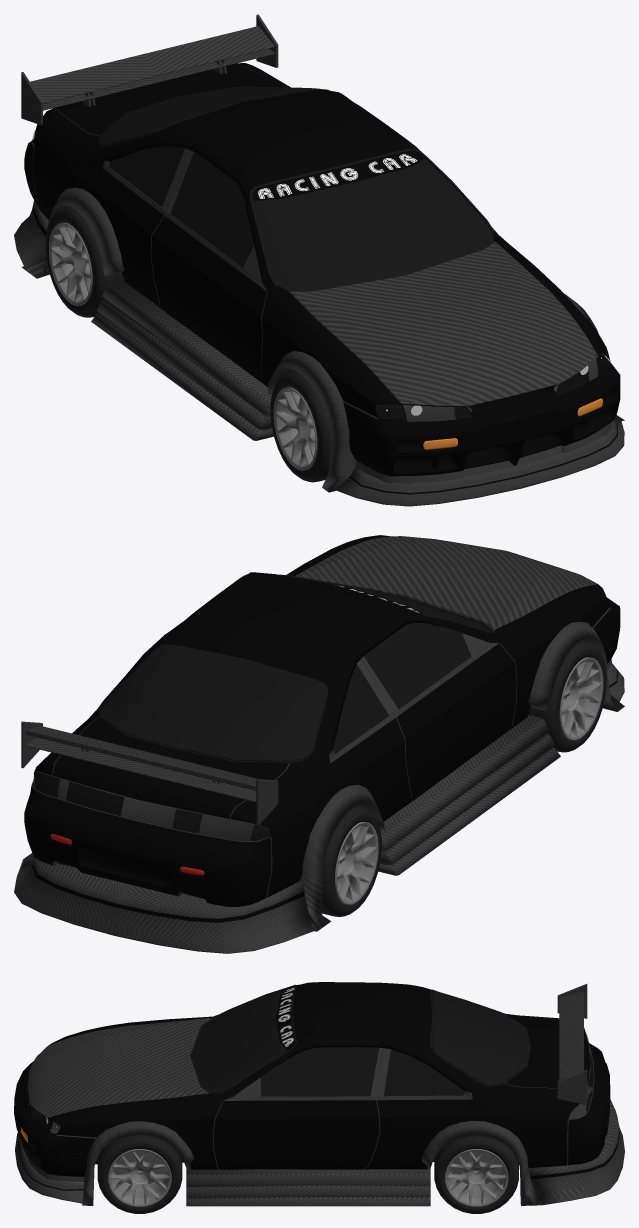
Rendered from Dodge Challenger_black.fbx.
3 views of the same model, one above another, from view 1: azimuth 30°, elevation 25°; view 2: azimuth 150°, elevation 25°; view 3: azimuth 270°, elevation 25° (orthographic). The views are drawn at different scales.
Visible parts, largest first — view 1: Body.001, Wheel_FR, Wheel_BR; view 2: Body.001, Wheel_BR, Wheel_FR; view 3: Body.001, Wheel_FL, Wheel_BL.
Boxes of the visible parts, x1,y1,x2,y2 form: Body.001: [14, 14, 624, 506]; Wheel_FR: [270, 370, 330, 482]; Wheel_BR: [45, 206, 123, 317]; Body.001: [14, 535, 624, 953]; Wheel_BR: [322, 805, 381, 916]; Wheel_FR: [529, 640, 606, 752]; Body.001: [14, 982, 624, 1206]; Wheel_FL: [97, 1135, 182, 1213]; Wheel_BL: [434, 1136, 518, 1213].
Size of the model in its own units: 137 by 89.21 by 315.
